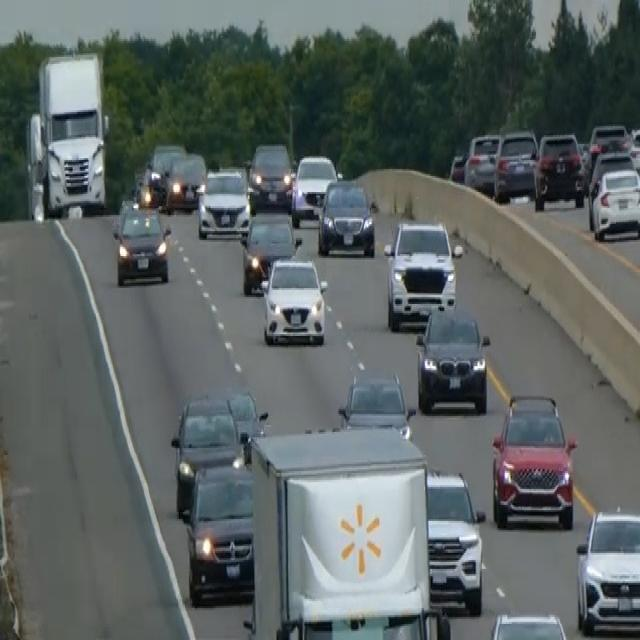car: (490, 389, 578, 530), (170, 388, 263, 516), (183, 459, 255, 606), (425, 468, 486, 615), (383, 217, 461, 331), (414, 300, 490, 414), (574, 506, 639, 636), (259, 254, 328, 347), (337, 368, 415, 439), (239, 210, 300, 295), (112, 201, 171, 286), (317, 176, 375, 256), (533, 130, 585, 210), (196, 165, 250, 240), (590, 165, 639, 242), (290, 153, 337, 226), (493, 128, 538, 201), (247, 140, 293, 210), (142, 142, 185, 203), (164, 151, 206, 212), (486, 610, 572, 638), (463, 132, 500, 192), (587, 121, 630, 167), (136, 162, 167, 208), (448, 149, 468, 183), (629, 125, 639, 182)
lorry: (242, 420, 447, 638), (25, 48, 110, 222)
